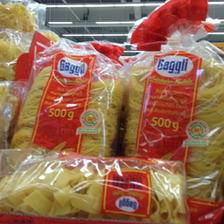pasta: (126, 34, 224, 212), (1, 150, 190, 224), (12, 43, 124, 157)
